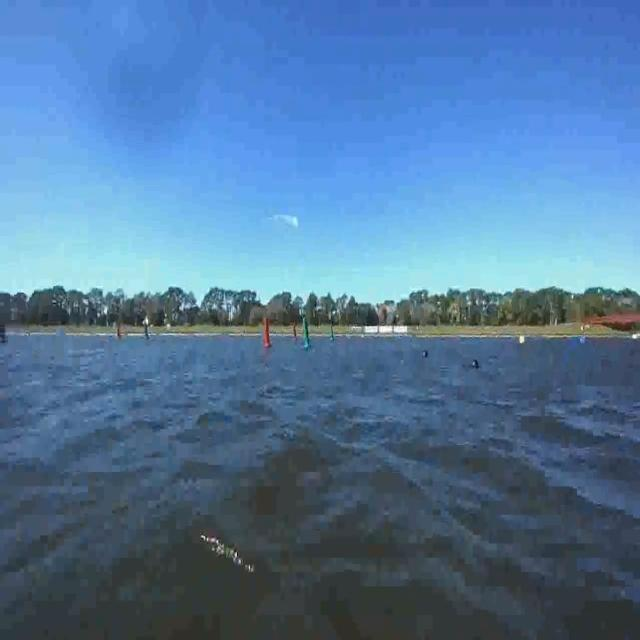black-buoy: (422, 344, 429, 360), (471, 353, 478, 366)
green-column-buoy: (304, 316, 313, 349), (142, 320, 150, 342), (329, 325, 335, 342)
red-column-buoy: (264, 320, 274, 351), (118, 324, 125, 343), (292, 324, 298, 344)
yellow-buoy: (519, 336, 527, 346), (34, 348, 40, 358)
